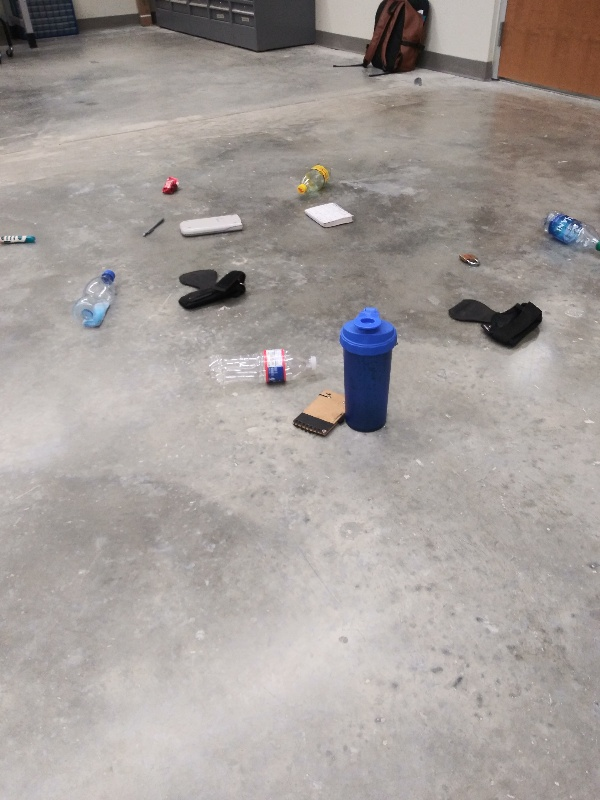bottle: (203, 346, 324, 392), (73, 266, 122, 334), (539, 209, 600, 257), (293, 162, 334, 199)
